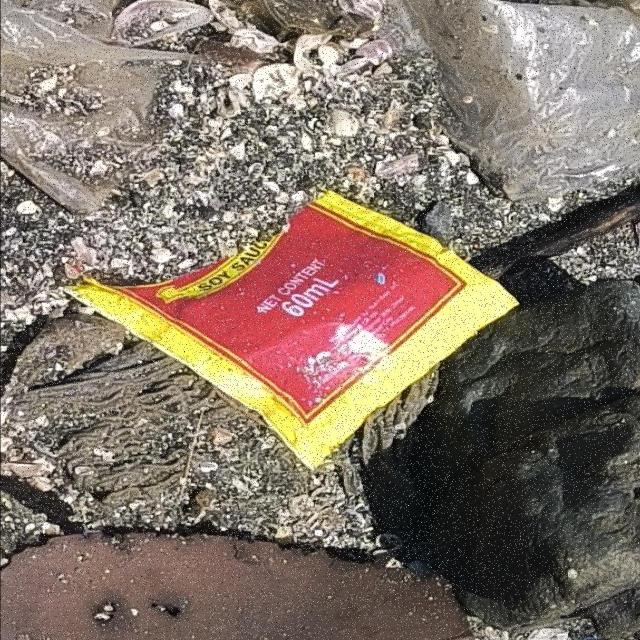plastic_waste: (56, 189, 525, 474)
